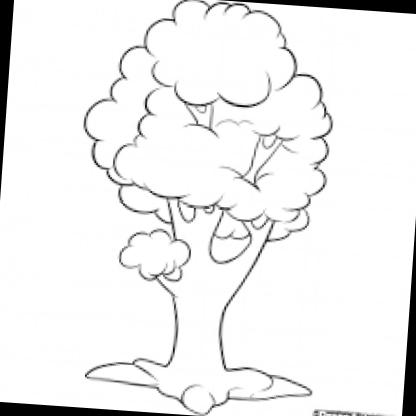branch_cut: (150, 196, 276, 276)
crown_cloud: (78, 0, 342, 248)
root_only: (82, 350, 315, 416)
trunk_straight: (163, 300, 237, 360)
